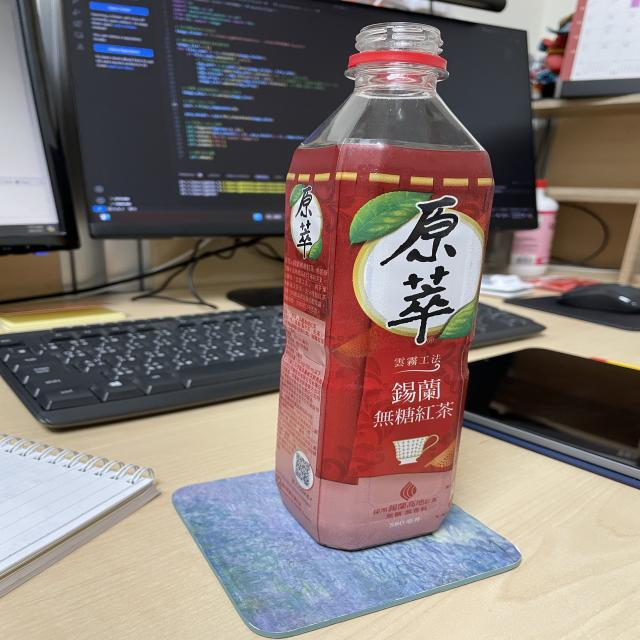YuanTsui_BlackTea: (267, 13, 507, 561)
